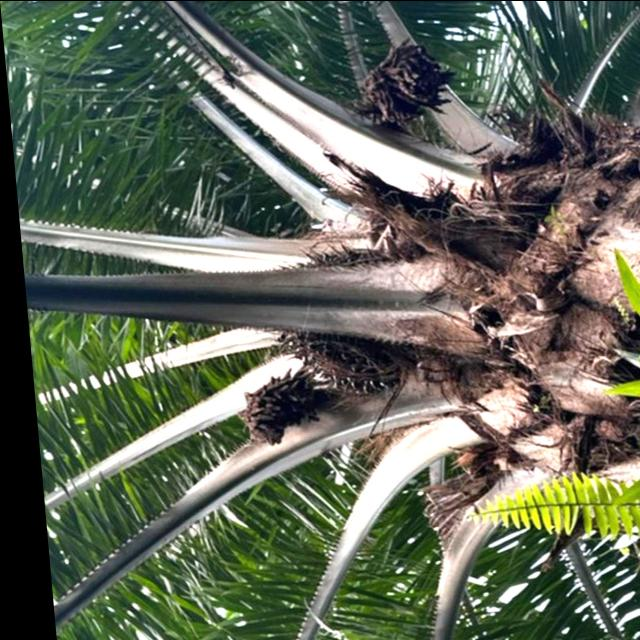almost: (263, 248, 423, 400)
